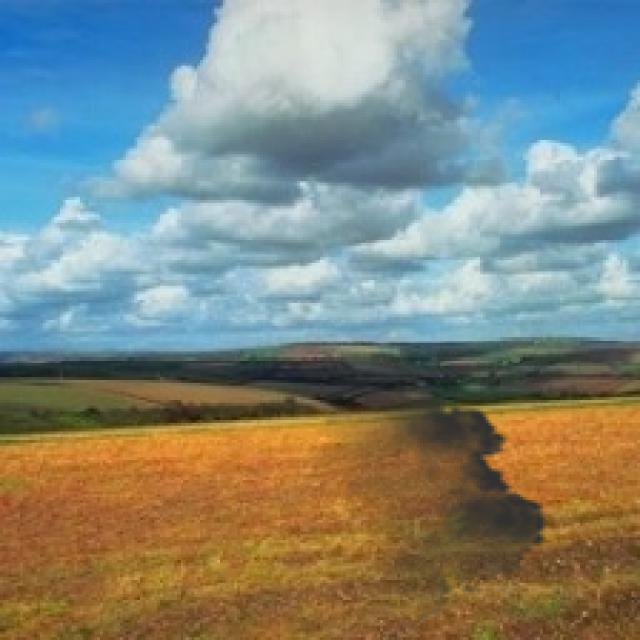smoke: (306, 386, 557, 628)
